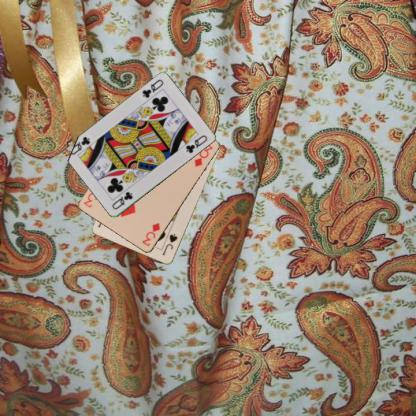3d: (139, 221, 161, 248)
Js: (160, 231, 178, 257)
Qc: (109, 188, 134, 211), (139, 77, 165, 99)
